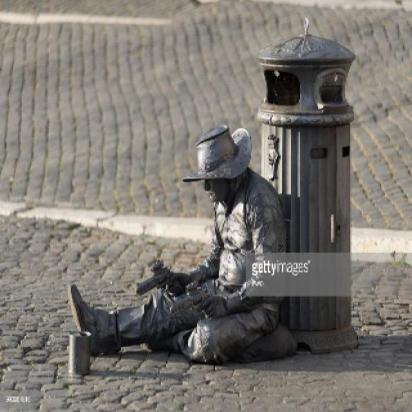Gun: (135, 256, 182, 297)
